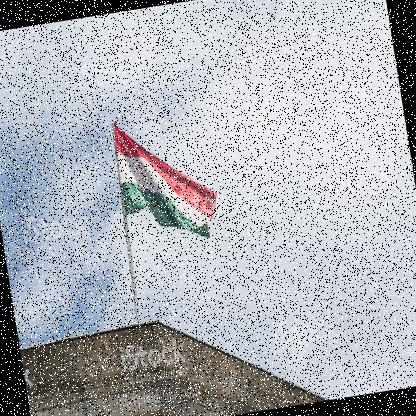hu: (111, 107, 224, 252)
